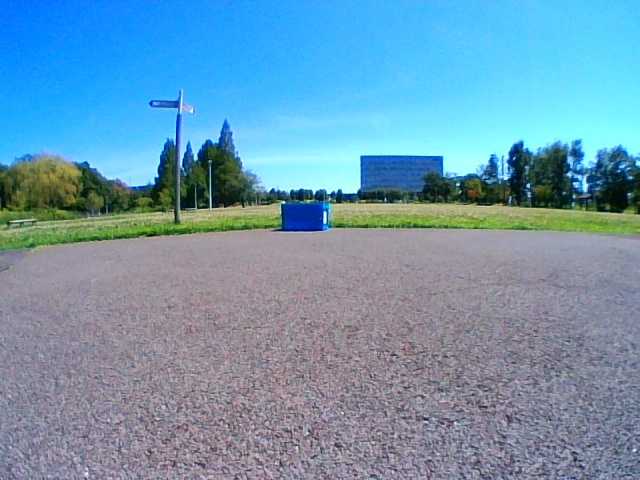blue_box: (281, 201, 328, 231)
tag: (322, 210, 327, 223)
